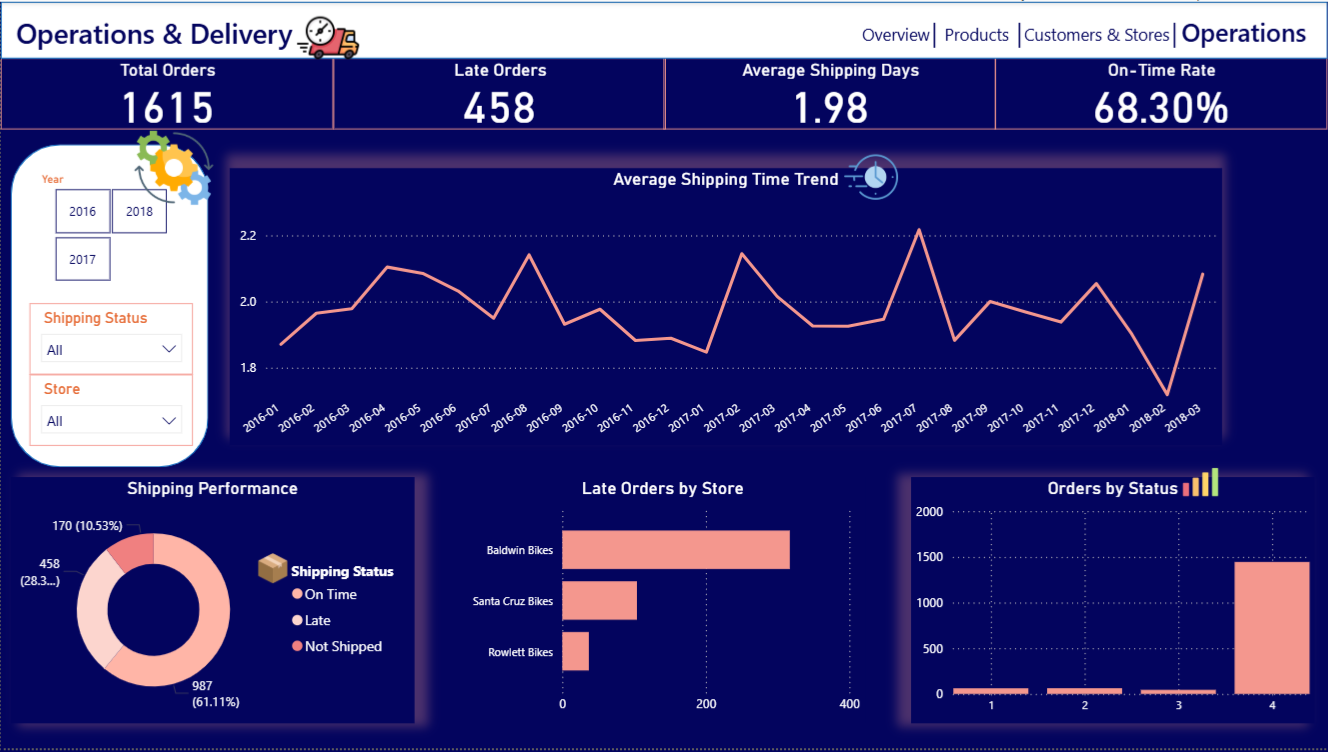

The page's visual inventory and layout, read from the dashboard file:
{"tool":"powerbi","page":{"name":"Operations & Delivery","canvas":[1280,720],"ordinal":3},"visuals":[{"type":"shape","box":[9.6,137.2,190.7,311.5],"z":0},{"type":"card","title":"Total Orders","fields":{"Values":["Fact_Sales.Total Orders"]},"box":[0,54.9,321.1,68.6],"z":1000},{"type":"card","title":"On-Time Rate","fields":{"Values":["Fact_Sales.On-Time Rate"]},"box":[959.2,54.9,321.1,68.6],"z":2000},{"type":"card","title":"Average Shipping Days","fields":{"Values":["Fact_Sales.Average Shipping Days"]},"box":[639.5,54.9,321.1,68.6],"z":3000},{"type":"card","title":"Late Orders","fields":{"Values":["Fact_Sales.Late Orders"]},"box":[321.1,54.9,321.1,68.6],"z":4000},{"type":"donutChart","title":"Shipping Performance","fields":{"Category":["Fact_Sales.Shipping Status"],"Y":["Fact_Sales.Total Orders"]},"box":[9.6,458.3,389.7,237.4],"z":5000},{"type":"columnChart","title":"Orders by Status","fields":{"Y":["Fact_Sales.Total Orders"],"Category":["Fact_Sales.order_status"]},"box":[878.2,458.3,389.7,237.4],"z":6000},{"type":"lineChart","title":"Average Shipping Time Trend","fields":{"Category":["Dim_Date.Year Month"],"Y":["Fact_Sales.Average Shipping Days"]},"box":[220.9,160.5,957.8,267.6],"z":7000},{"type":"clusteredBarChart","title":"Late Orders by Store","fields":{"Category":["Dim_Stores.store_name"],"Y":["Fact_Sales.Late Orders"]},"box":[443.8,458.3,390,237.4],"z":8000},{"type":"slicer","fields":{"Values":["Dim_Date.Year"]},"box":[26.1,159.2,157.8,116.6],"z":9000},{"type":"slicer","fields":{"Values":["Dim_Stores.store_name"]},"box":[27.4,359.5,157.8,68.6],"z":10000},{"type":"slicer","fields":{"Values":["Fact_Sales.Shipping Status"]},"box":[27.4,290.9,157.8,68.6],"z":11000},{"type":"shape","box":[0,0,1280.3,54.9],"z":12000},{"type":"textbox","box":[9.6,6.9,403.4,56.3],"z":13000},{"type":"actionButton","box":[824.7,11,76.8,39.8],"z":14000},{"type":"textbox","box":[893.3,8.2,15.1,45.3],"z":15000},{"type":"actionButton","box":[901.5,11,81,39.8],"z":16000},{"type":"textbox","box":[974.3,8.2,20.6,45.3],"z":17000},{"type":"actionButton","box":[982.5,11,150.9,39.8],"z":18000},{"type":"textbox","box":[1133.5,8.2,144.1,46.7],"z":19000},{"type":"textbox","box":[1123.8,8.2,19.2,46.7],"z":20000},{"type":"image","box":[256.6,0,118,70],"z":21000},{"type":"image","box":[237.4,526.9,49.4,38.4],"z":22000},{"type":"image","box":[123.5,100.2,87.8,119.4],"z":23000},{"type":"image","box":[786.3,137.2,107,63.1],"z":24000},{"type":"image","box":[1123.8,439.1,65.9,50.8],"z":25000}]}

Visuals, with their boxes in screenshot pixels (x1, y1, x2, y2), scaled from the page's 1280x720 canvas onto the 1328x752 screenshot:
shape: left=10, top=143, right=208, bottom=469
"Total Orders" card: left=0, top=57, right=333, bottom=129
"On-Time Rate" card: left=995, top=57, right=1327, bottom=129
"Average Shipping Days" card: left=663, top=57, right=997, bottom=129
"Late Orders" card: left=333, top=57, right=666, bottom=129
"Shipping Performance" donutChart: left=10, top=479, right=414, bottom=727
"Orders by Status" columnChart: left=911, top=479, right=1315, bottom=727
"Average Shipping Time Trend" lineChart: left=229, top=168, right=1223, bottom=447
"Late Orders by Store" clusteredBarChart: left=460, top=479, right=865, bottom=727
slicer - Dim_Date.Year: left=27, top=166, right=191, bottom=288
slicer - Dim_Stores.store_name: left=28, top=375, right=192, bottom=447
slicer - Fact_Sales.Shipping Status: left=28, top=304, right=192, bottom=375
shape: left=0, top=0, right=1327, bottom=57
textbox: left=10, top=7, right=428, bottom=66
actionButton: left=856, top=11, right=935, bottom=53
textbox: left=927, top=9, right=942, bottom=56
actionButton: left=935, top=11, right=1019, bottom=53
textbox: left=1011, top=9, right=1032, bottom=56
actionButton: left=1019, top=11, right=1176, bottom=53
textbox: left=1176, top=9, right=1326, bottom=57
textbox: left=1166, top=9, right=1186, bottom=57
image: left=266, top=0, right=389, bottom=73
image: left=246, top=550, right=298, bottom=590
image: left=128, top=105, right=219, bottom=229
image: left=816, top=143, right=927, bottom=209
image: left=1166, top=459, right=1234, bottom=512
